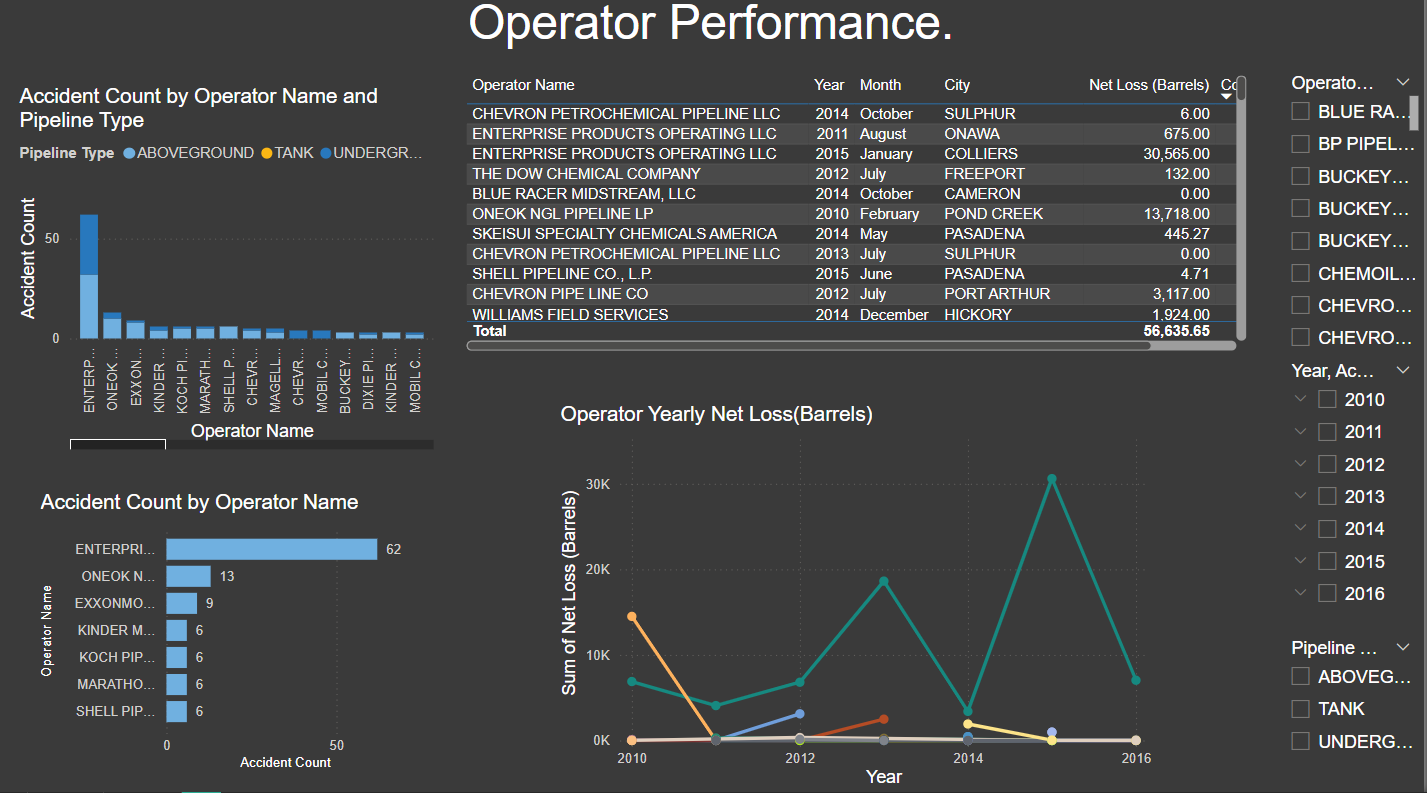

This screenshot's page, from the dashboard's own definition file:
{"tool":"powerbi","page":{"name":"Page 3","canvas":[1280,720],"ordinal":2},"visuals":[{"type":"lineChart","title":"Operator Yearly Net Loss(Barrels)","fields":{"Y":["Sum(Data.Net Loss (Barrels))"],"Category":["Data. Year"],"Series":["Data.Operator Name"]},"box":[499.9,369.6,540.8,350.2],"z":0},{"type":"textbox","box":[0,0,1280,70],"z":1000},{"type":"slicer","fields":{"Values":["Data. Year","Data.Accident State","Data.Cause Category","Data.Pipeline Type"]},"box":[1148,328.3,132.4,233],"z":2000},{"type":"clusteredBarChart","fields":{"Category":["Data.Operator Name"],"Y":["Data.Accident Count"]},"box":[33.6,448.9,343.7,256.6],"z":3000},{"type":"columnChart","fields":{"Category":["Data.Operator Name"],"Series":["Data.Pipeline Type"],"Y":["Data.Accident Count"]},"box":[14.5,84.3,381.8,332.8],"z":4000},{"type":"slicer","fields":{"Values":["Data.Pipeline Type"]},"box":[1148,577.6,132.4,142.4],"z":5000},{"type":"tableEx","fields":{"Values":["Data.Operator Name","Data.Accident Date.Variation.Date Hierarchy.Year","Data.Accident Date.Variation.Date Hierarchy.Month","Data.Accident City","Sum(Data.Net Loss (Barrels))","Data.Total Cost"]},"box":[414.3,72,711,256.8],"z":6000},{"type":"slicer","fields":{"Values":["Data.Operator Name"]},"box":[1148,69.8,132.4,258.4],"z":7000}]}

Visuals, with their boxes in screenshot pixels (x1, y1, x2, y2), scaled from the page's 1280x720 canvas onto the 1427x793 screenshot:
"Operator Yearly Net Loss(Barrels)" lineChart: [x1=557, y1=407, x2=1160, y2=792]
textbox: [x1=0, y1=0, x2=1426, y2=77]
slicer - Data. Year x Data.Accident State: [x1=1280, y1=362, x2=1426, y2=618]
clusteredBarChart - Data.Operator Name x Data.Accident Count: [x1=37, y1=494, x2=421, y2=777]
columnChart - Data.Operator Name x Data.Pipeline Type: [x1=16, y1=93, x2=442, y2=459]
slicer - Data.Pipeline Type: [x1=1280, y1=636, x2=1426, y2=792]
tableEx - Data.Operator Name x Data.Accident Date.Variation.Date Hierarchy.Year: [x1=462, y1=79, x2=1255, y2=362]
slicer - Data.Operator Name: [x1=1280, y1=77, x2=1426, y2=361]
